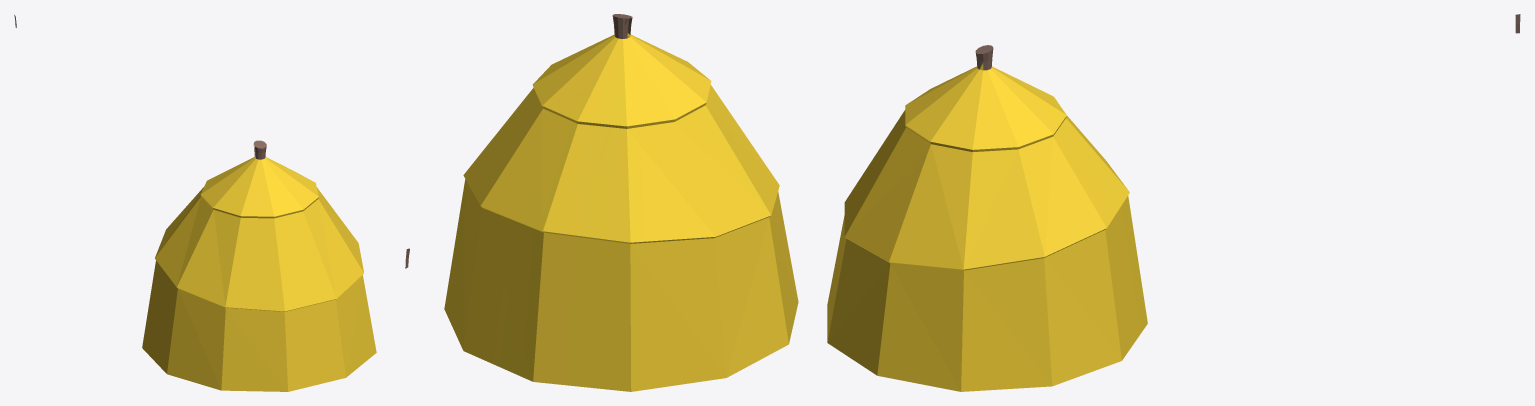
The model's file is hay_stack.glb.
3 renders of one model, left to right at view 1: azimuth 30°, elevation 25°; view 2: azimuth 150°, elevation 25°; view 3: azimuth 270°, elevation 25°, orthographic. The views are drawn at different scales.
Visible parts, largest first — view 1: rock02_Mesh_007_Base_0.1819; view 2: rock02_Mesh_007_Base_0.1819; view 3: rock02_Mesh_007_Base_0.1819.
Part boxes in pixels (x1,y1,x2,y2): rock02_Mesh_007_Base_0.1819: [142, 140, 376, 391]; rock02_Mesh_007_Base_0.1819: [444, 14, 798, 391]; rock02_Mesh_007_Base_0.1819: [827, 45, 1147, 391].
Size of the model in its own units: 2.38 by 2.24 by 5.09.
1 material, 1 textured.
